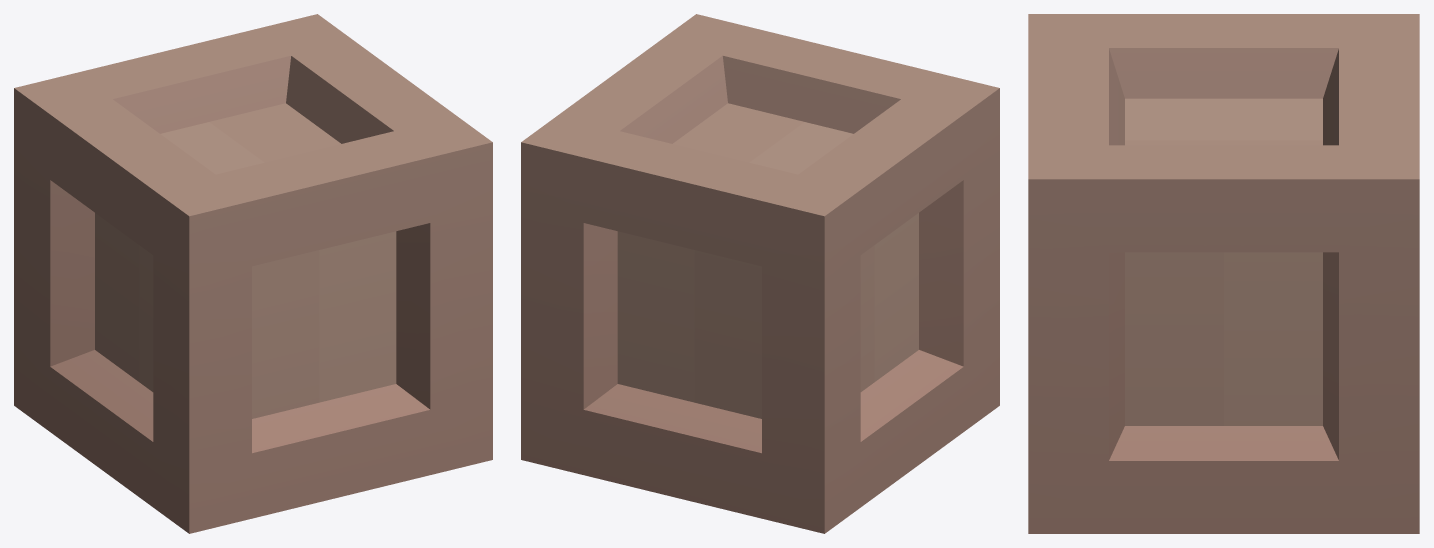
Rendered from crate.gltf.
3 views of the same model, side by side, from view 1: azimuth 30°, elevation 25°; view 2: azimuth 150°, elevation 25°; view 3: azimuth 270°, elevation 25° (orthographic). The views are drawn at different scales.
Parts seen in each view (by area): view 1: crate; view 2: crate; view 3: crate.
Boxes of the visible parts, x1,y1,x2,y2 form: crate: (14, 14, 492, 533); crate: (521, 14, 999, 533); crate: (1028, 14, 1419, 533).
Bounding box in the file's own units: 0.14 × 0.14 × 0.14.
